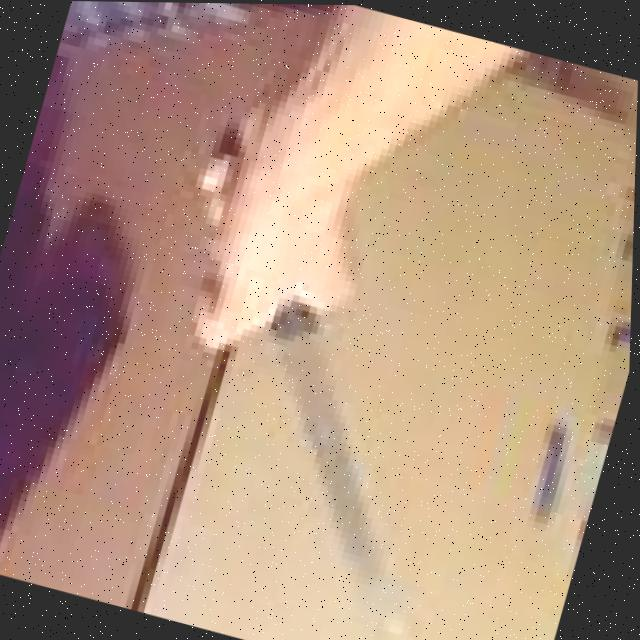knife: (93, 125, 504, 626)
